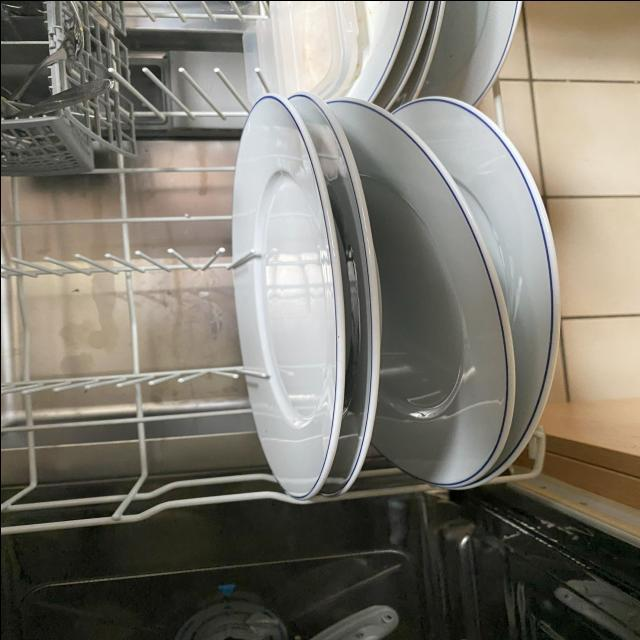empty_slot: (13, 177, 249, 496)
